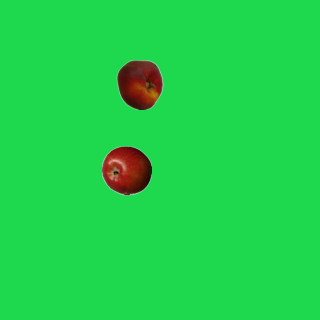Apple Braeburn: (101, 145, 151, 195)
Nectarine Flat: (114, 59, 164, 109)
